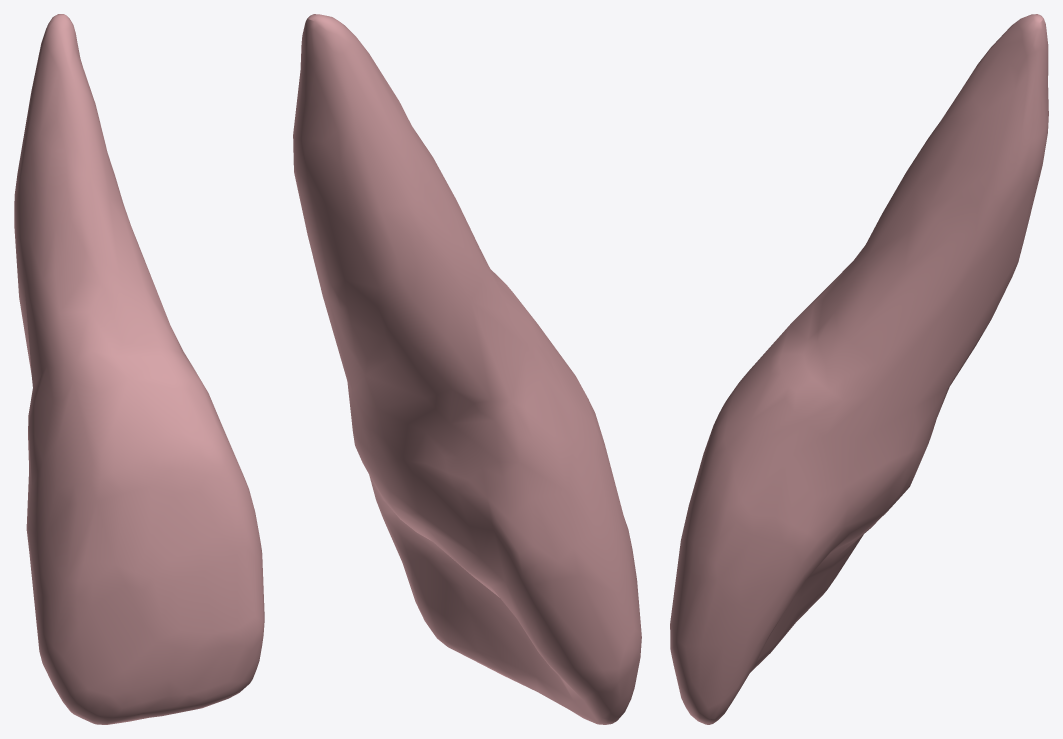
File: fma55681_fj1279.glb
The picture shows the model from 3 angles, left to right: view 1: azimuth 30°, elevation 25°; view 2: azimuth 150°, elevation 25°; view 3: azimuth 270°, elevation 25°; orthographic projection. The views are drawn at different scales.
Visible parts, largest first — view 1: FMA55681_FJ1279; view 2: FMA55681_FJ1279; view 3: FMA55681_FJ1279.
Boxes of the visible parts, x1=… form: FMA55681_FJ1279: x1=14, y1=14, x2=264, y2=724; FMA55681_FJ1279: x1=293, y1=14, x2=641, y2=724; FMA55681_FJ1279: x1=670, y1=14, x2=1048, y2=724.
Size of the model in its own units: 0.00887 by 0.0264 by 0.0129.
